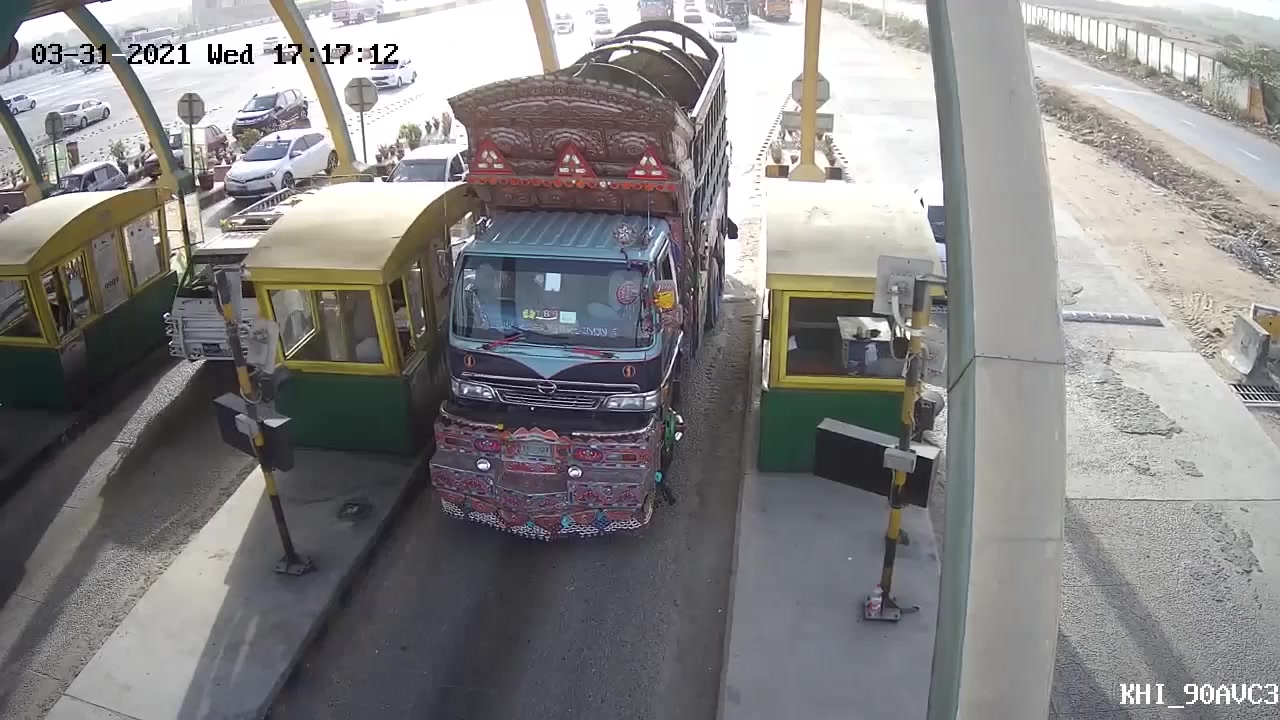F6: (411, 79, 707, 560)
